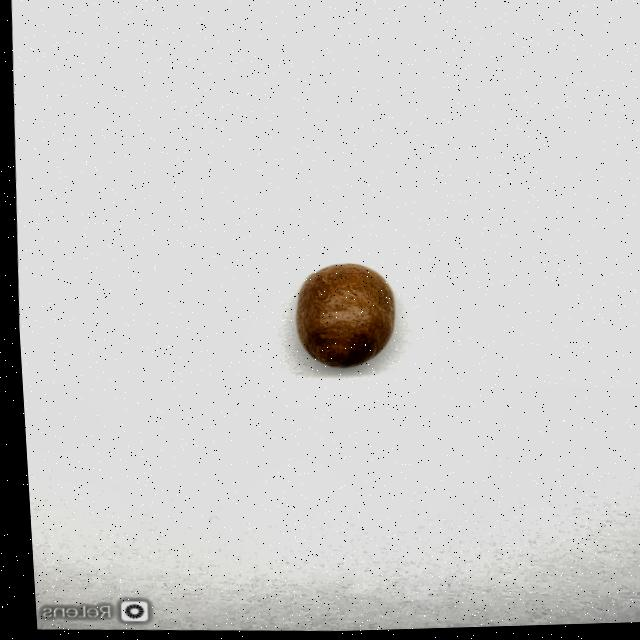Good bean: (290, 263, 393, 370)
